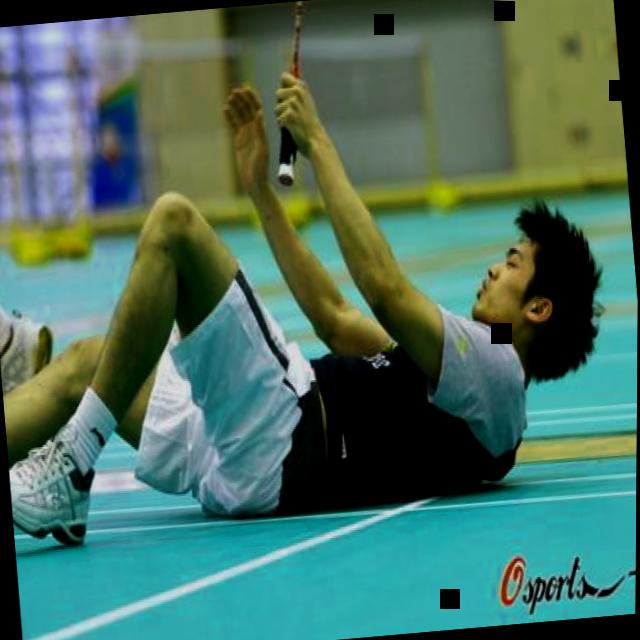Fall-Detected: (0, 24, 615, 543)
